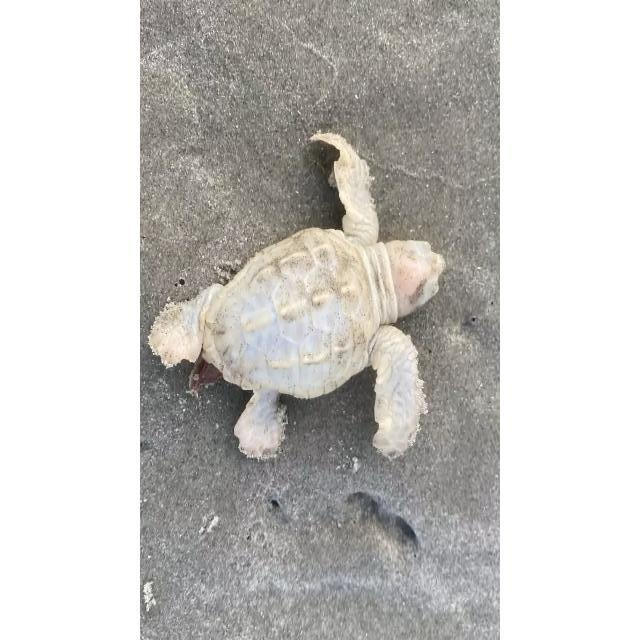turtle: (146, 130, 446, 462)
